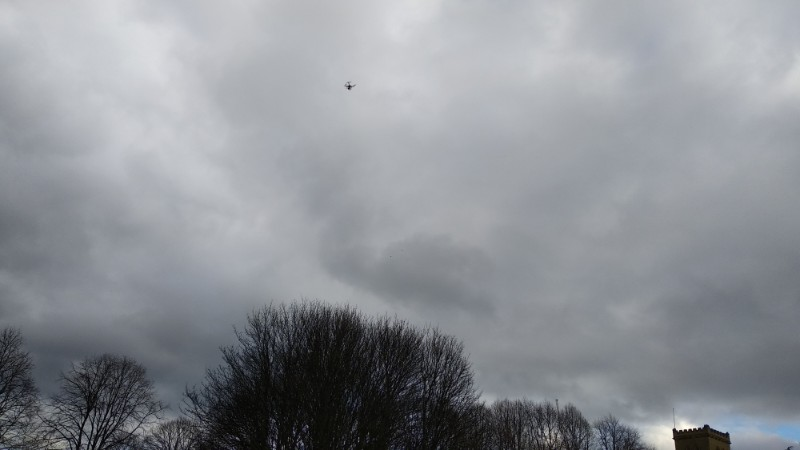drone: (344, 81, 357, 91)
